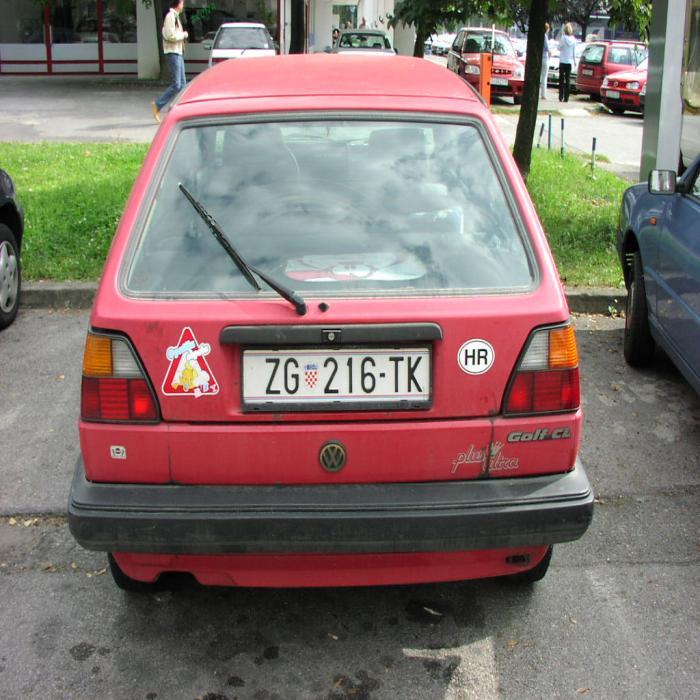number_plate: (242, 350, 428, 398)
